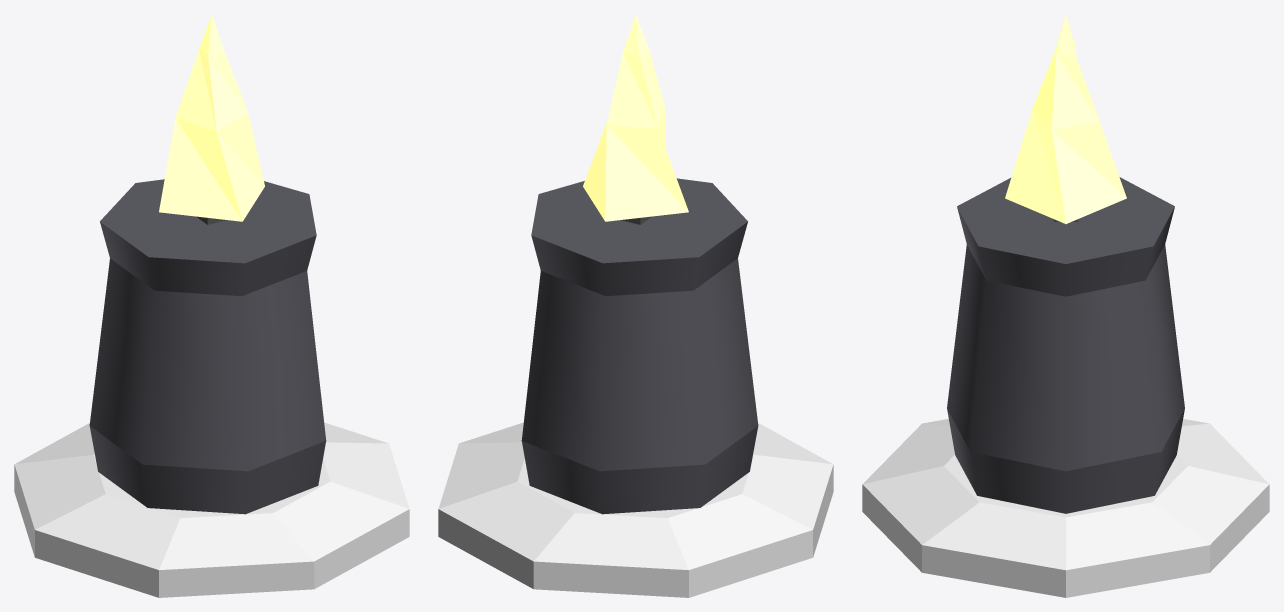
The model's file is item_candle.glb.
3 views of the same model, side by side, from view 1: azimuth 30°, elevation 25°; view 2: azimuth 150°, elevation 25°; view 3: azimuth 270°, elevation 25° (orthographic).
Visible parts, largest first — view 1: Item_candle; view 2: Item_candle; view 3: Item_candle.
Boxes of the visible parts, x1,y1,x2,y2 form: Item_candle: (14, 14, 409, 597); Item_candle: (438, 14, 833, 597); Item_candle: (862, 15, 1269, 597).
Size of the model in its own units: 0.2 by 0.27 by 0.2.
